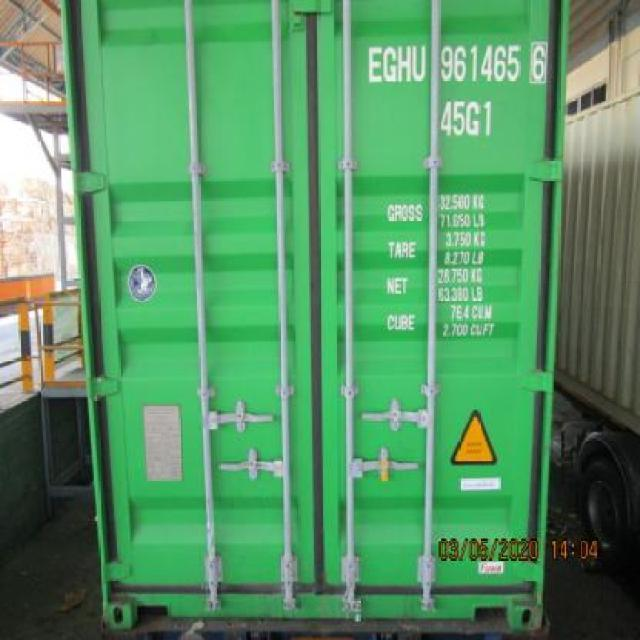ISO: (439, 100, 491, 136)
container_number: (371, 44, 544, 84)
